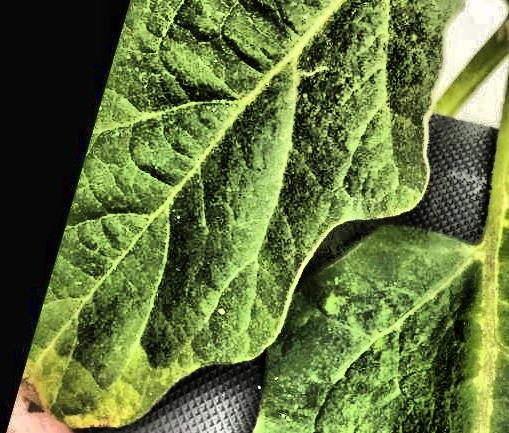Non-critical Stress: (1, 0, 509, 433)
